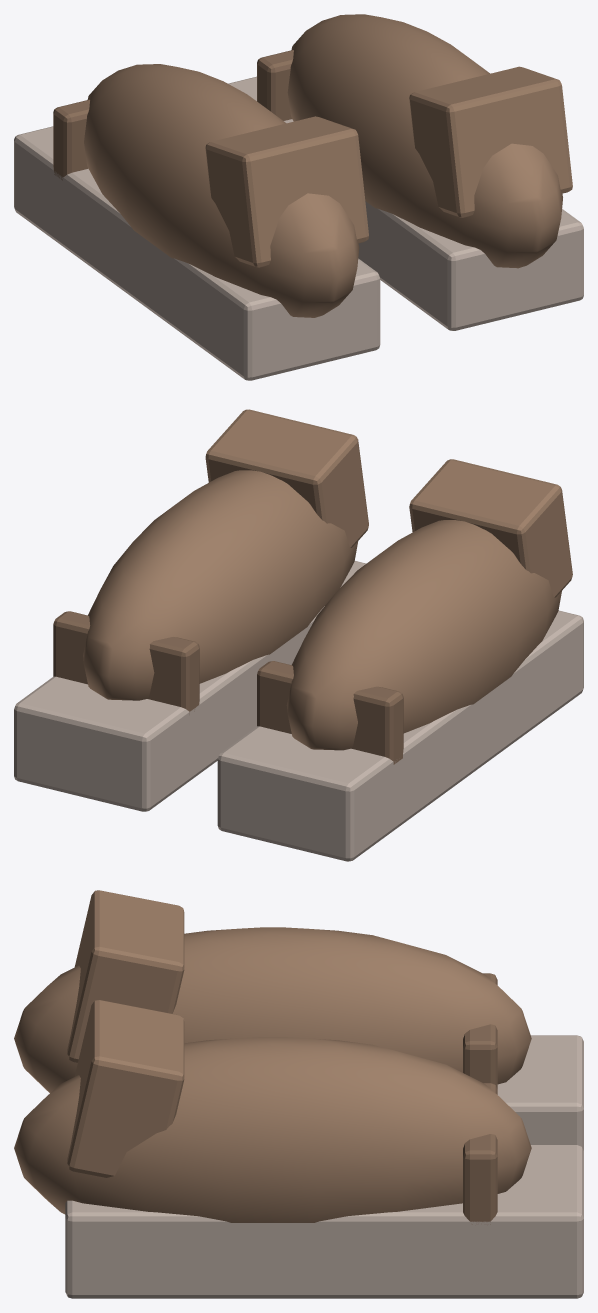
The model's file is VM-CAL-EXT185.glb.
The picture shows the model from 3 angles, top to bottom: view 1: azimuth 30°, elevation 25°; view 2: azimuth 150°, elevation 25°; view 3: azimuth 270°, elevation 25°; orthographic projection. The views are drawn at different scales.
Visible parts, largest first — view 1: Zapatillas Negras y Marrones; view 2: Zapatillas Negras y Marrones; view 3: Zapatillas Negras y Marrones.
Part boxes in pixels (<box>): Zapatillas Negras y Marrones: <box>14,14,583,380</box>; Zapatillas Negras y Marrones: <box>14,409,583,861</box>; Zapatillas Negras y Marrones: <box>14,890,583,1298</box>.
Bounding box in the file's own units: 0.2559 × 0.1496 × 0.3265.
